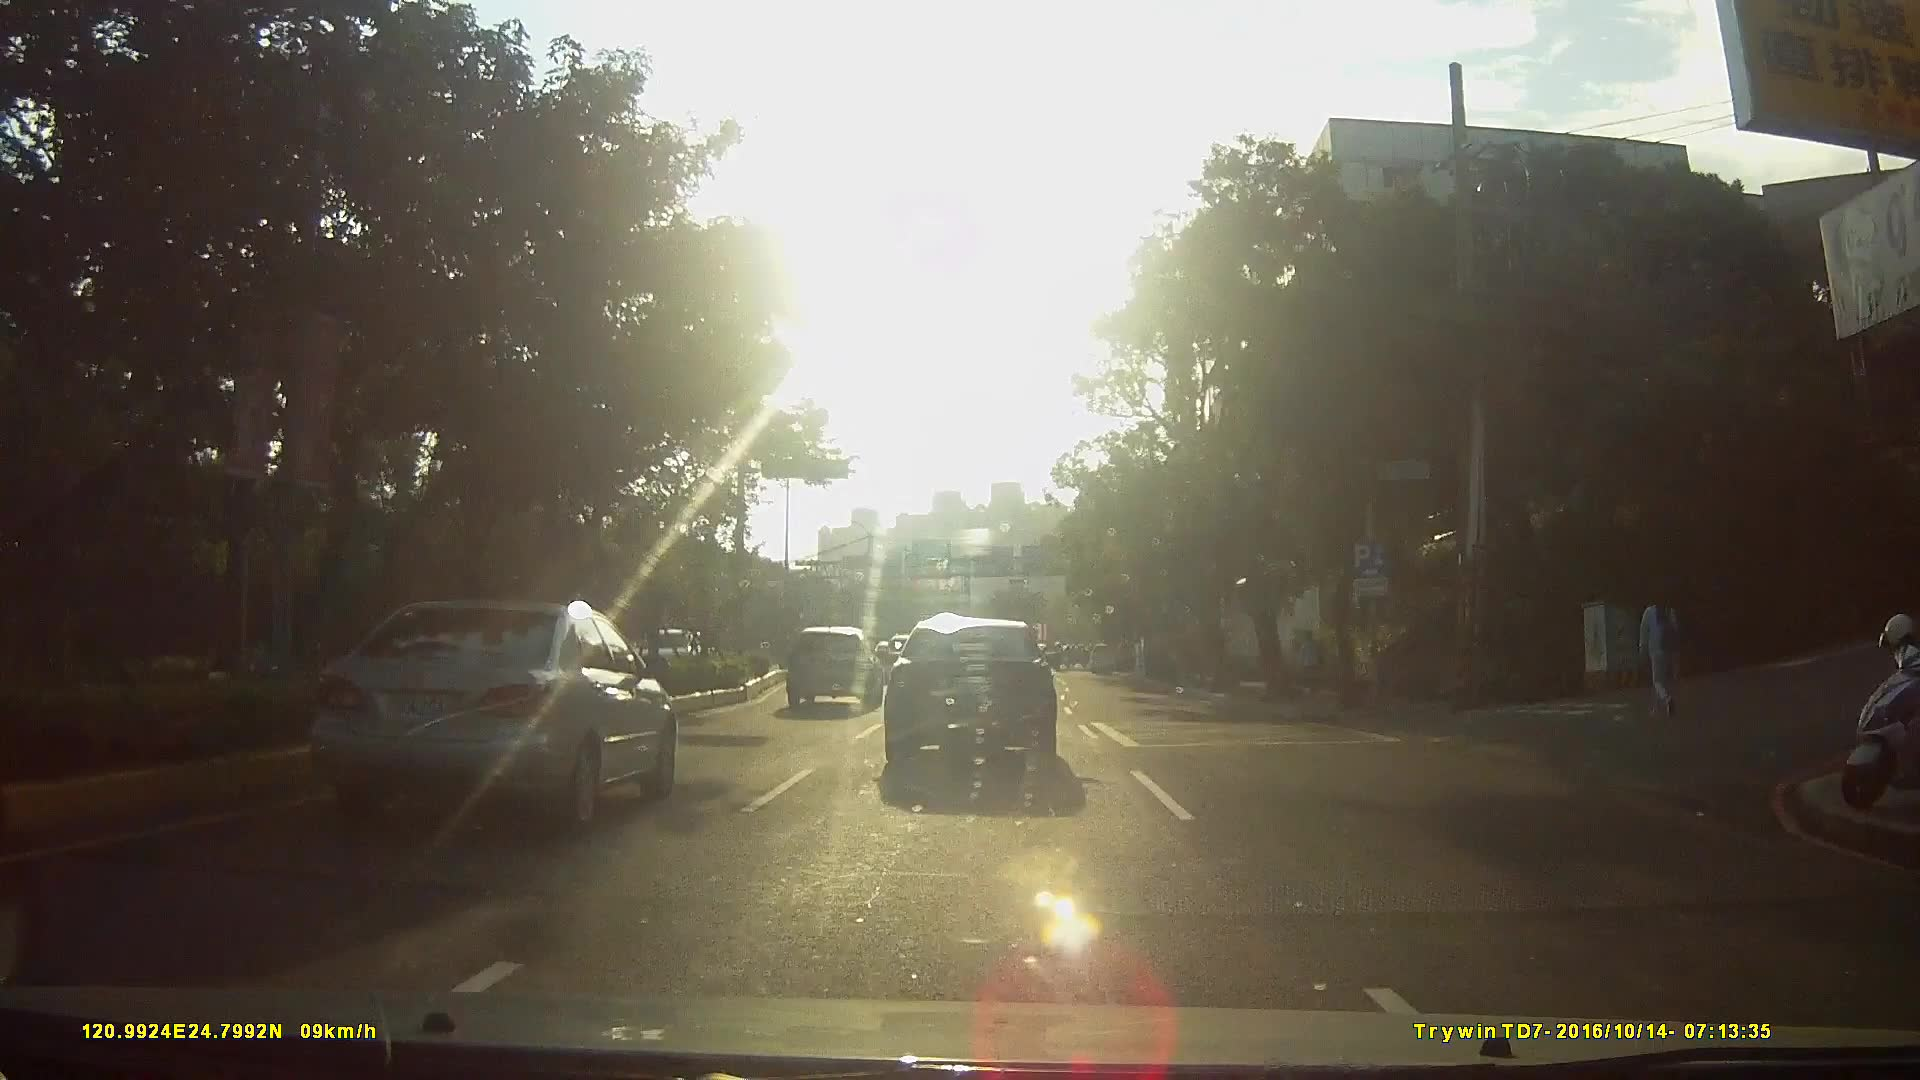pedestrian: (1637, 583, 1689, 720)
vehicle: (295, 596, 677, 829), (875, 615, 1075, 785), (782, 626, 883, 712), (1082, 642, 1116, 676)
